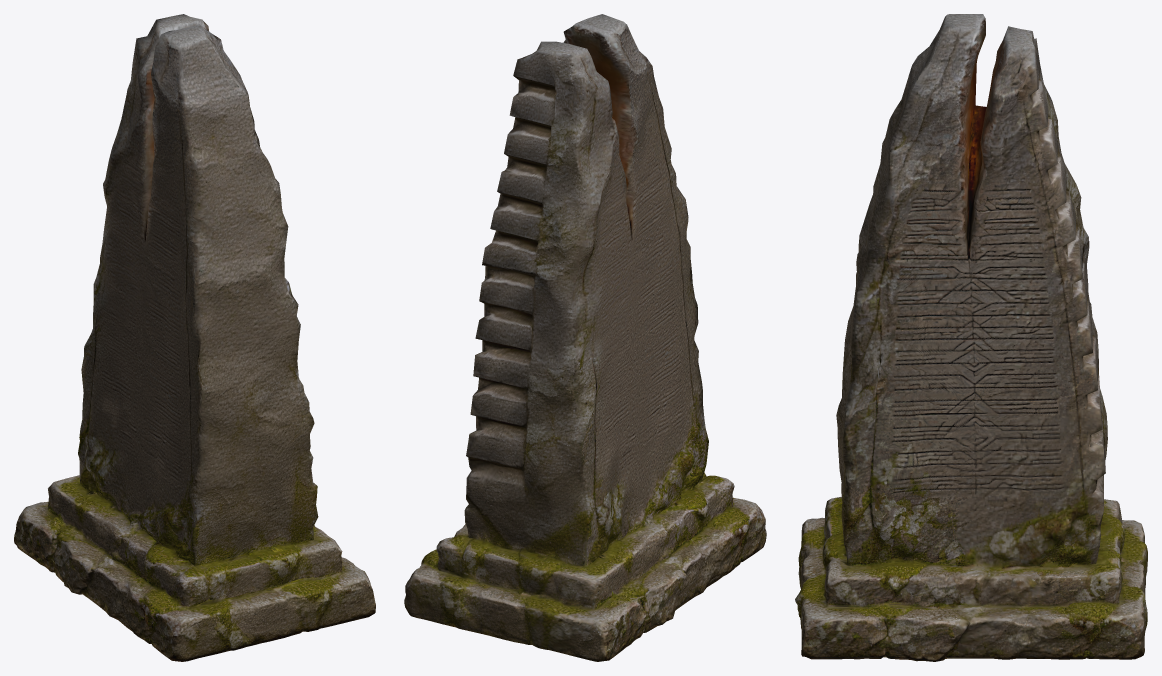
The model's file is ant_tasi.glb.
3 views of the same model, side by side, from view 1: azimuth 30°, elevation 25°; view 2: azimuth 150°, elevation 25°; view 3: azimuth 270°, elevation 25° (orthographic). The views are drawn at different scales.
Visible parts, largest first — view 1: tripo_node_444125d2-f958-4f83-be87-79466d65e3ae; view 2: tripo_node_444125d2-f958-4f83-be87-79466d65e3ae; view 3: tripo_node_444125d2-f958-4f83-be87-79466d65e3ae.
Boxes of the visible parts, box(x1,y1,x2,y2) form: tripo_node_444125d2-f958-4f83-be87-79466d65e3ae: box(14, 14, 375, 661); tripo_node_444125d2-f958-4f83-be87-79466d65e3ae: box(404, 14, 766, 661); tripo_node_444125d2-f958-4f83-be87-79466d65e3ae: box(795, 14, 1147, 661).
Size of the model in its own units: 0.3902 by 0.9778 by 0.5377.
Materials: 1 (1 with a texture image).
